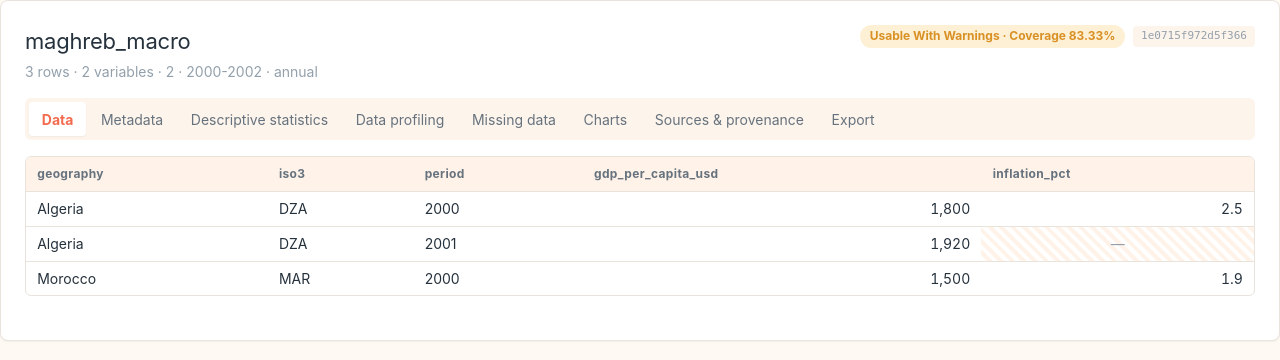
Test: DatasetWorkspace › offers every export format
Expected: the heading "maghreb_macro" is shown, [25,28,191,54]
Click the tab "Export" at (853, 119), box [819,102,888,136]
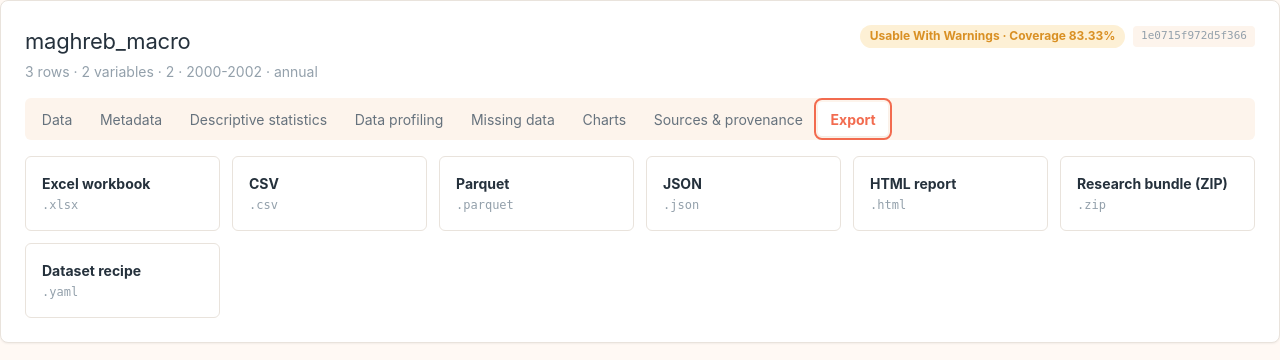
Expected: the text "Excel workbook" is shown, [42,173,150,194]
Expected: the text "CSV" is shown, [249,173,279,194]
Expected: the text "Parquet" is shown, [456,173,509,194]
